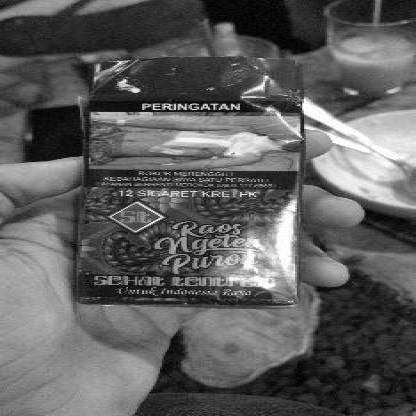objects: (76, 60, 302, 308)
